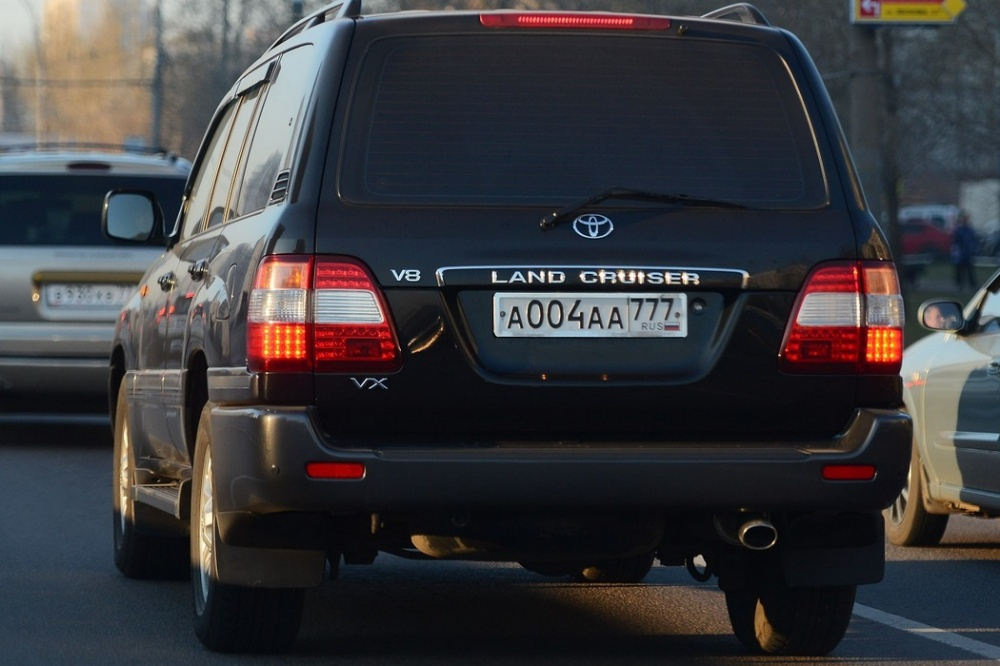number_plate: (495, 289, 684, 337)
